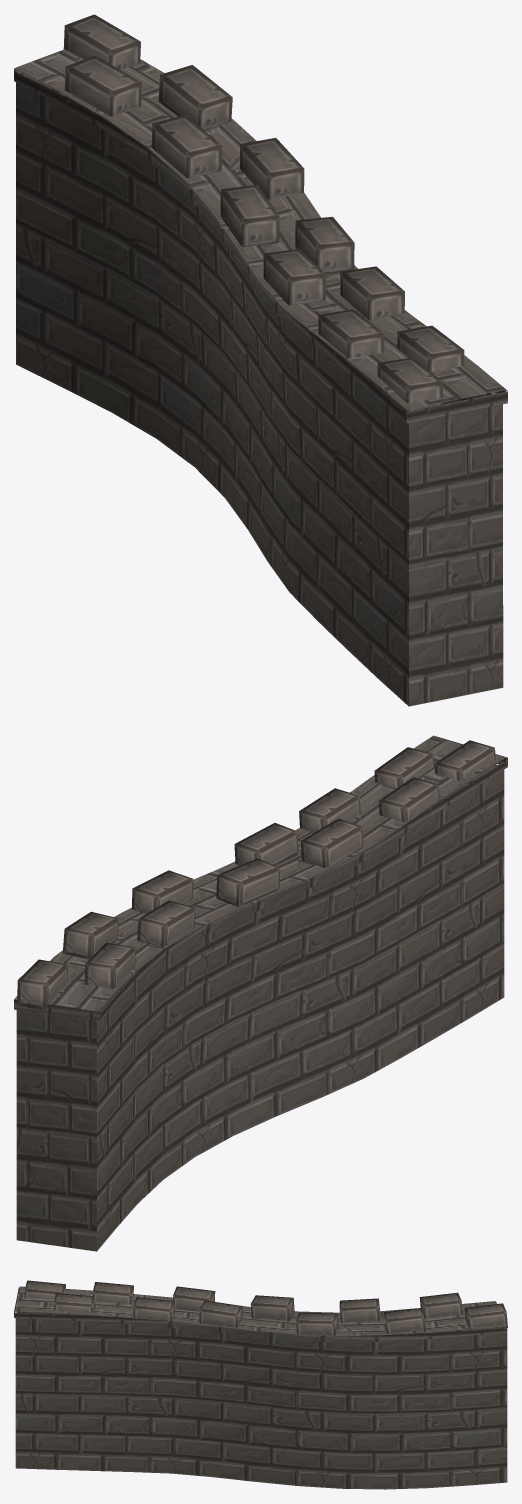
Rendered from Wall_breakable.fbx.
The picture shows the model from 3 angles, top to bottom: view 1: azimuth 30°, elevation 25°; view 2: azimuth 150°, elevation 25°; view 3: azimuth 270°, elevation 25°; orthographic projection. The views are drawn at different scales.
Visible parts, largest first — view 1: polySurface219, polySurface209, polySurface210, polySurface213, polySurface211, polySurface212, polySurface214, polySurface217, polySurface215, polySurface216, polySurface220, polySurface221 (+1 smaller); view 2: polySurface219, polySurface211, polySurface217, polySurface216, polySurface213, polySurface209, polySurface214, polySurface212, polySurface220, polySurface210, polySurface215, polySurface221 (+1 smaller); view 3: polySurface219, polySurface211, polySurface216, polySurface214, polySurface209, polySurface213, polySurface212, polySurface210, polySurface215, polySurface217, polySurface220, polySurface218 (+1 smaller).
Part boxes in pixels (<box>): polySurface219: <box>14,49,507,706</box>; polySurface209: <box>158,65,232,129</box>; polySurface210: <box>64,55,141,116</box>; polySurface213: <box>151,114,222,178</box>; polySurface211: <box>220,184,279,247</box>; polySurface212: <box>240,138,304,199</box>; polySurface214: <box>63,14,140,69</box>; polySurface217: <box>263,249,325,305</box>; polySurface215: <box>340,266,404,320</box>; polySurface216: <box>295,216,354,274</box>; polySurface220: <box>318,309,384,358</box>; polySurface221: <box>377,357,442,412</box>; polySurface219: <box>14,735,507,1251</box>; polySurface211: <box>216,858,280,907</box>; polySurface217: <box>300,818,363,868</box>; polySurface216: <box>234,823,298,865</box>; polySurface213: <box>137,900,195,946</box>; polySurface209: <box>62,911,119,959</box>; polySurface214: <box>17,959,68,1010</box>; polySurface212: <box>131,870,193,913</box>; polySurface220: <box>379,777,439,822</box>; polySurface210: <box>84,942,135,988</box>; polySurface215: <box>299,788,360,832</box>; polySurface221: <box>434,740,495,787</box>; polySurface219: <box>14,1286,507,1489</box>; polySurface211: <box>250,1295,294,1321</box>; polySurface216: <box>199,1300,242,1327</box>; polySurface214: <box>464,1303,507,1329</box>; polySurface209: <box>384,1307,425,1334</box>; polySurface213: <box>339,1298,380,1322</box>; polySurface212: <box>296,1312,338,1335</box>; polySurface210: <box>419,1292,462,1318</box>; polySurface215: <box>133,1297,174,1320</box>; polySurface217: <box>173,1286,215,1311</box>; polySurface220: <box>92,1282,133,1303</box>; polySurface218: <box>53,1293,94,1314</box>.
Bounding box in the file's own units: 1.94 × 3.41 × 8.91.
